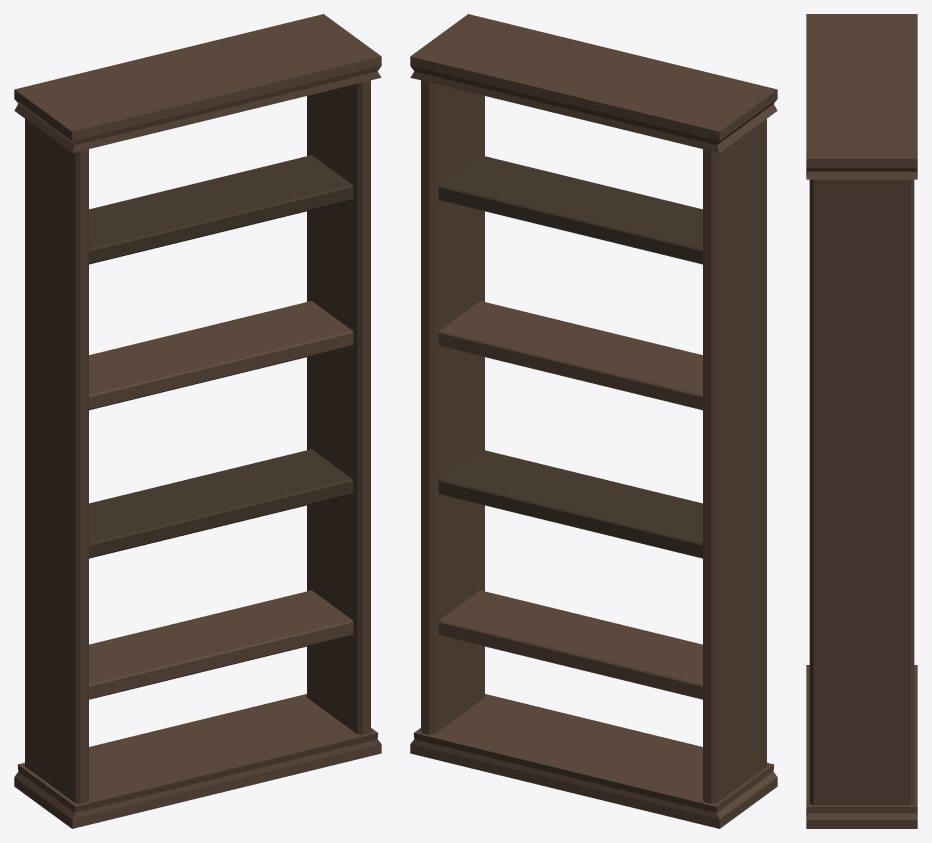
Rendered from Cupboard_1.fbx.
3 views of the same model, side by side, from view 1: azimuth 30°, elevation 25°; view 2: azimuth 150°, elevation 25°; view 3: azimuth 270°, elevation 25° (orthographic). The views are drawn at different scales.
Parts seen in each view (by area): view 1: polySurface2959; view 2: polySurface2959; view 3: polySurface2959.
Part boxes in pixels (x1,y1,x2,y2): polySurface2959: (14, 14, 381, 828); polySurface2959: (410, 14, 777, 828); polySurface2959: (806, 14, 917, 828).
Size of the model in its own units: 165 by 354 by 53.36.
